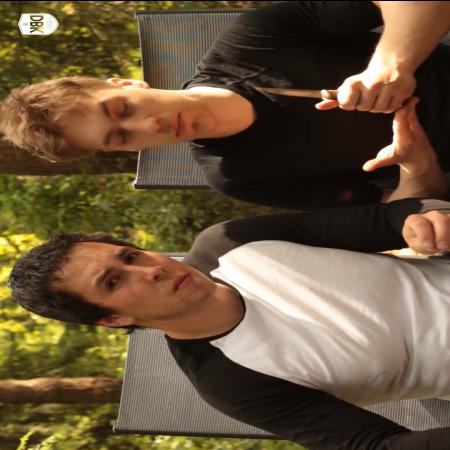long weapon: (236, 69, 384, 117)
